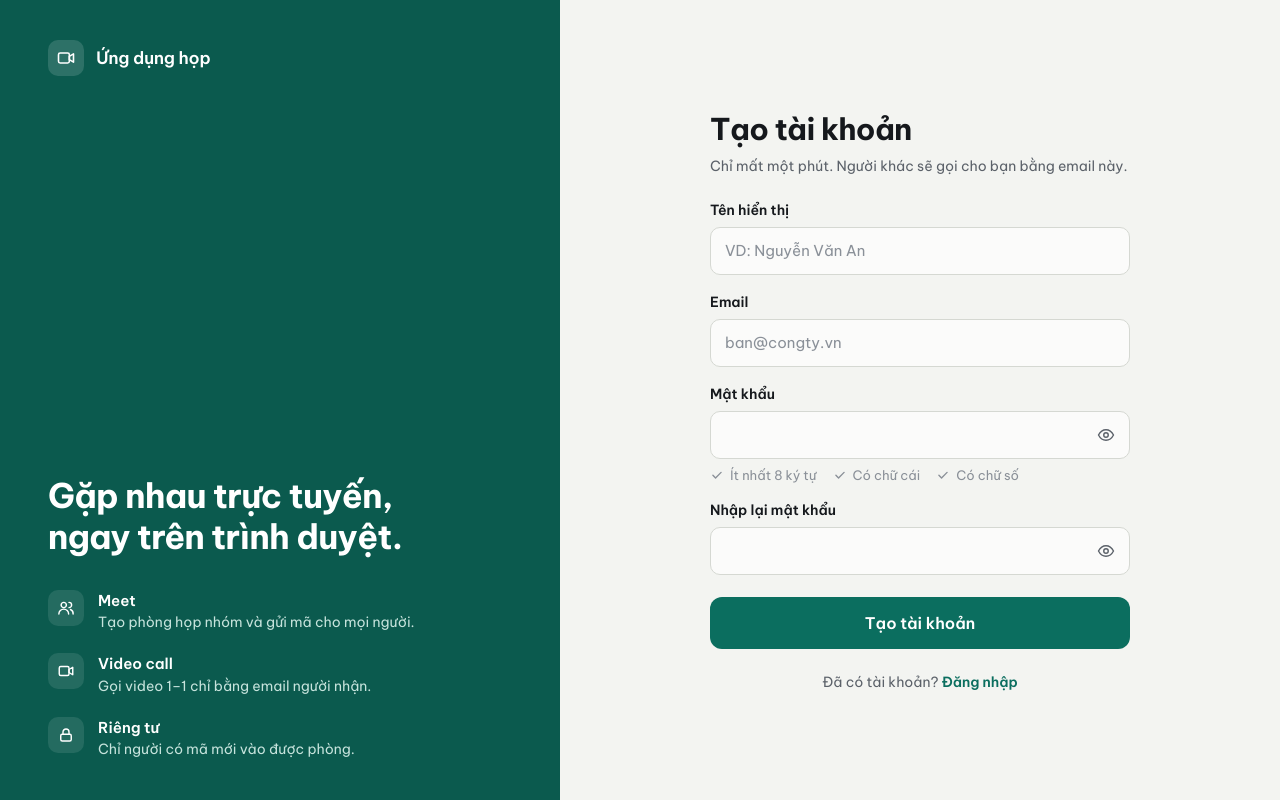
Test: đăng ký › mật khẩu nhập lại không khớp thì không gọi API
Type "Nguyễn An" into the field labelled "Tên hiển thị". click: (920, 250)
box: [710, 226, 1130, 274]
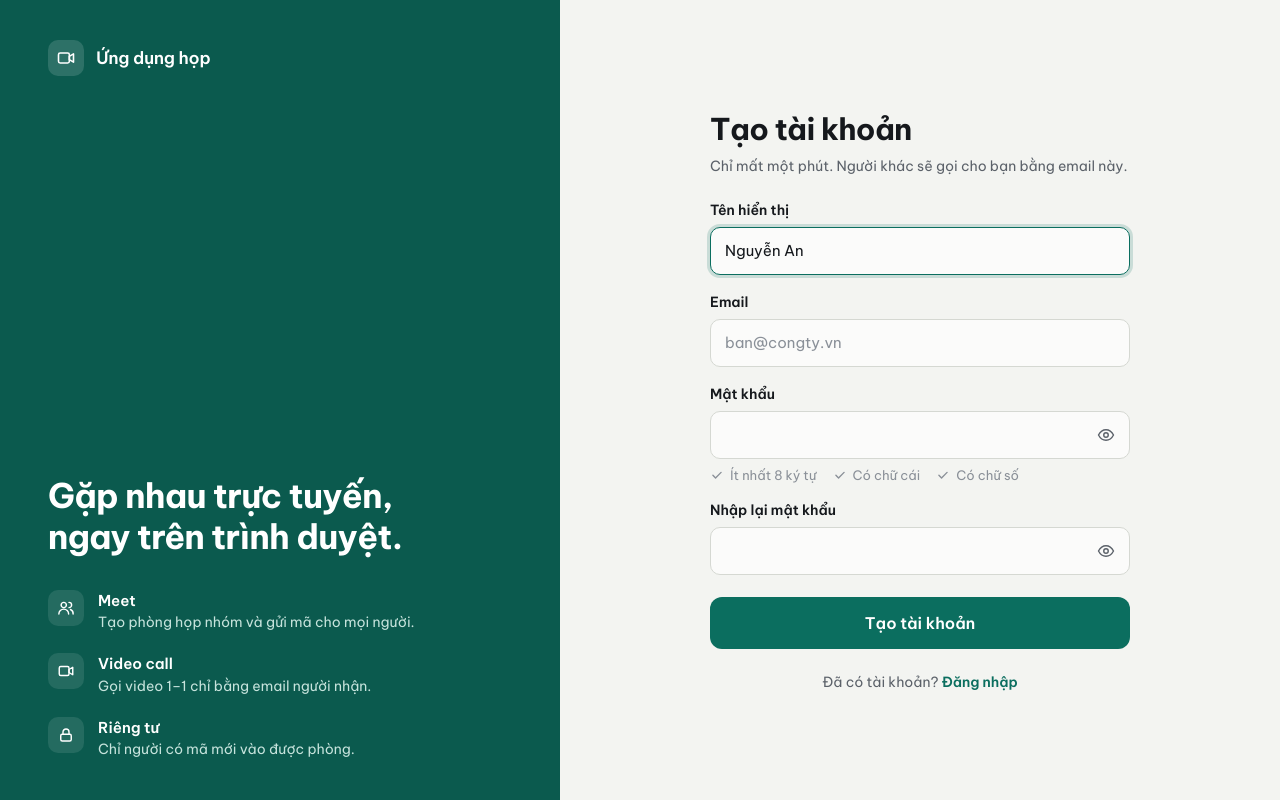
Type "an@congty.vn" into the field labelled "Email". click: (920, 342)
box: [710, 318, 1130, 366]
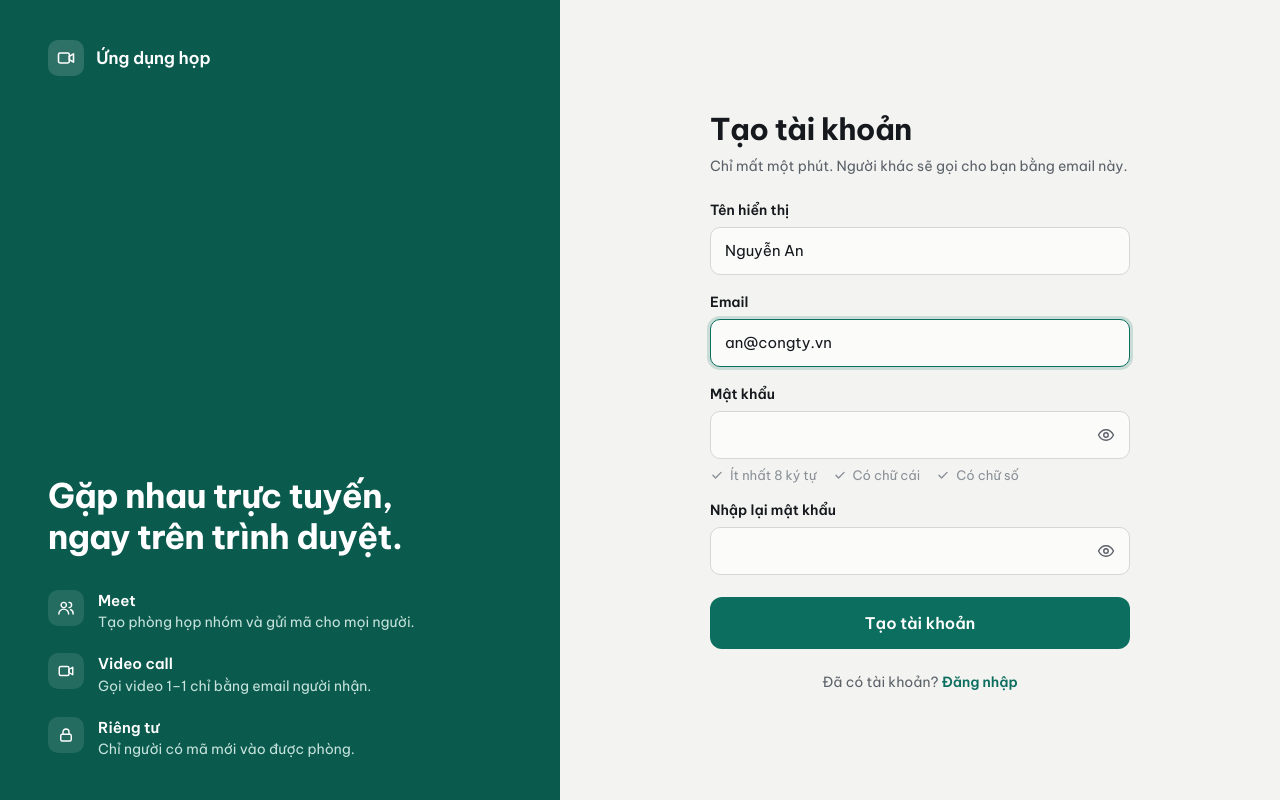
Type "matkhau123" into the password field labelled "Mật khẩu". click: (920, 434)
box: [710, 410, 1130, 458]
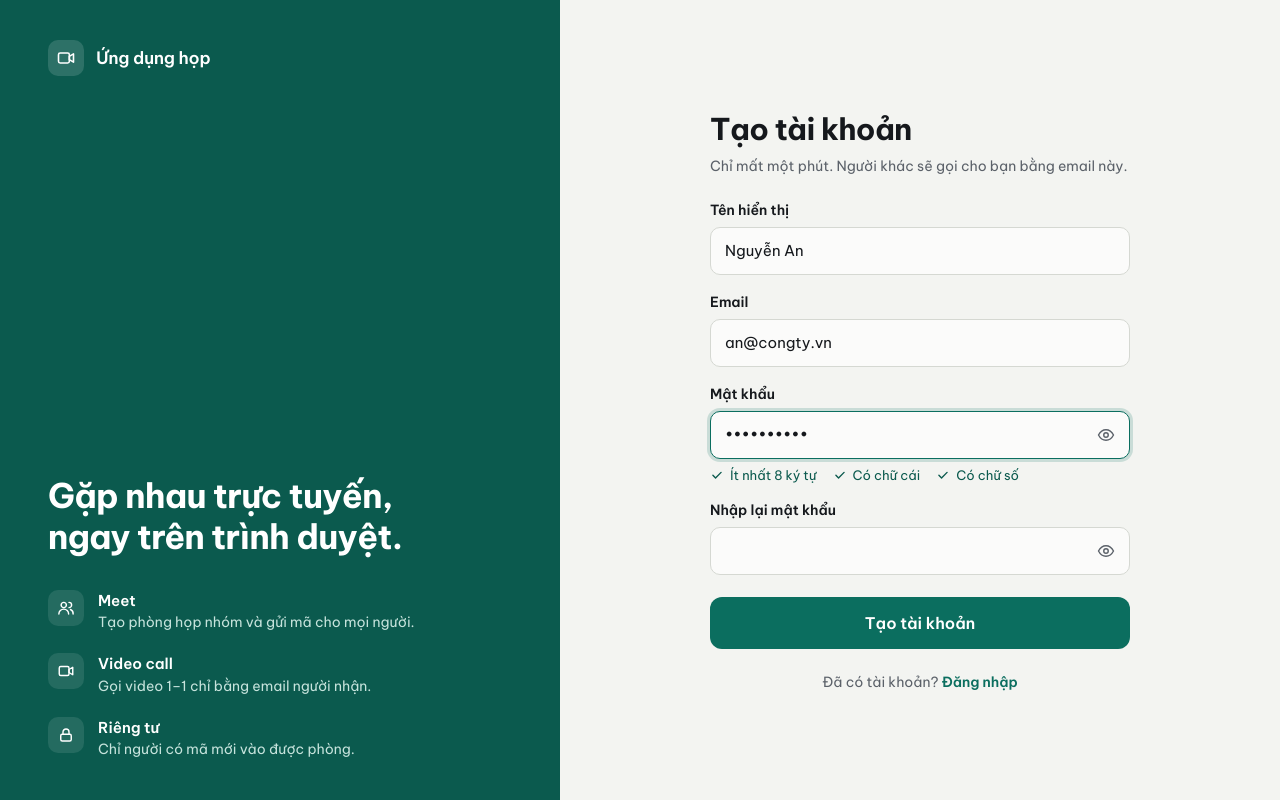
Type "khac12345" into the password field labelled "Nhập lại mật khẩu". click: (920, 550)
box: [710, 526, 1130, 574]
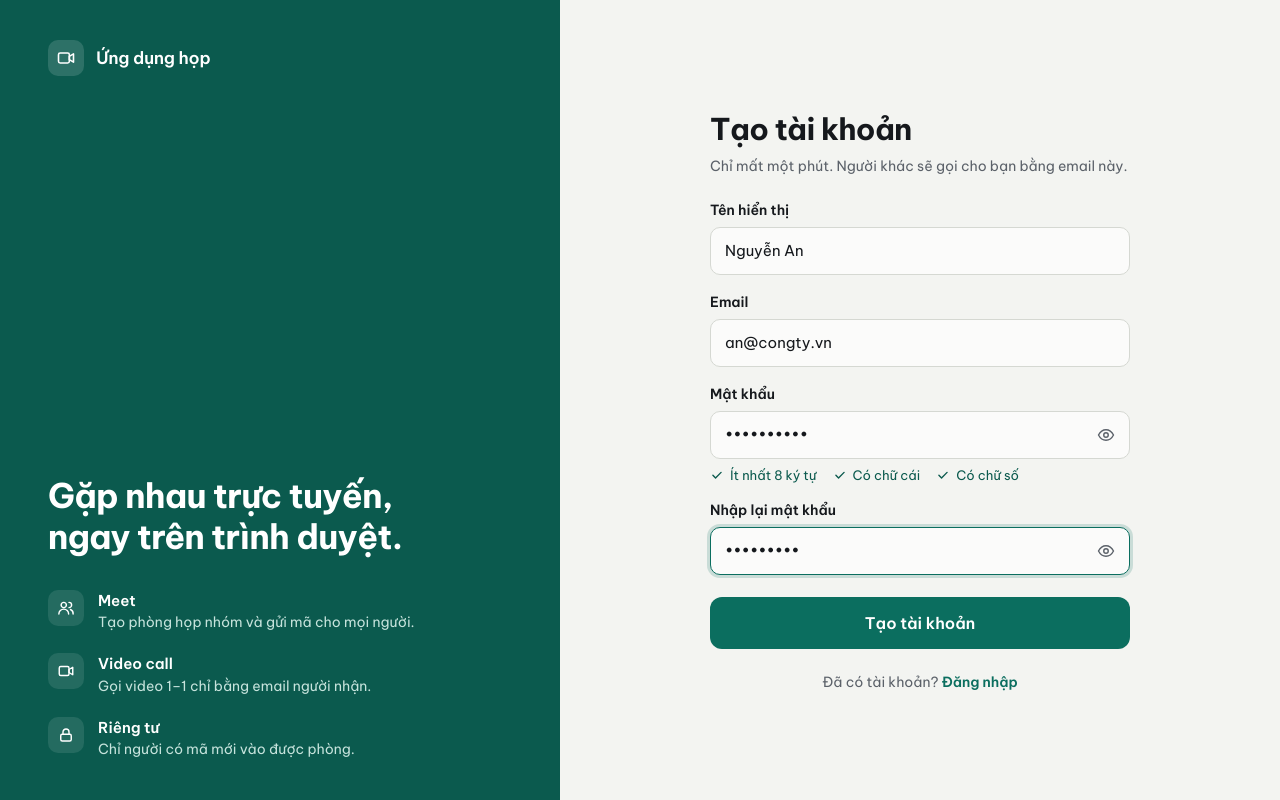
Click the button "Tạo tài khoản". click: click(920, 622)
box: [710, 596, 1130, 648]
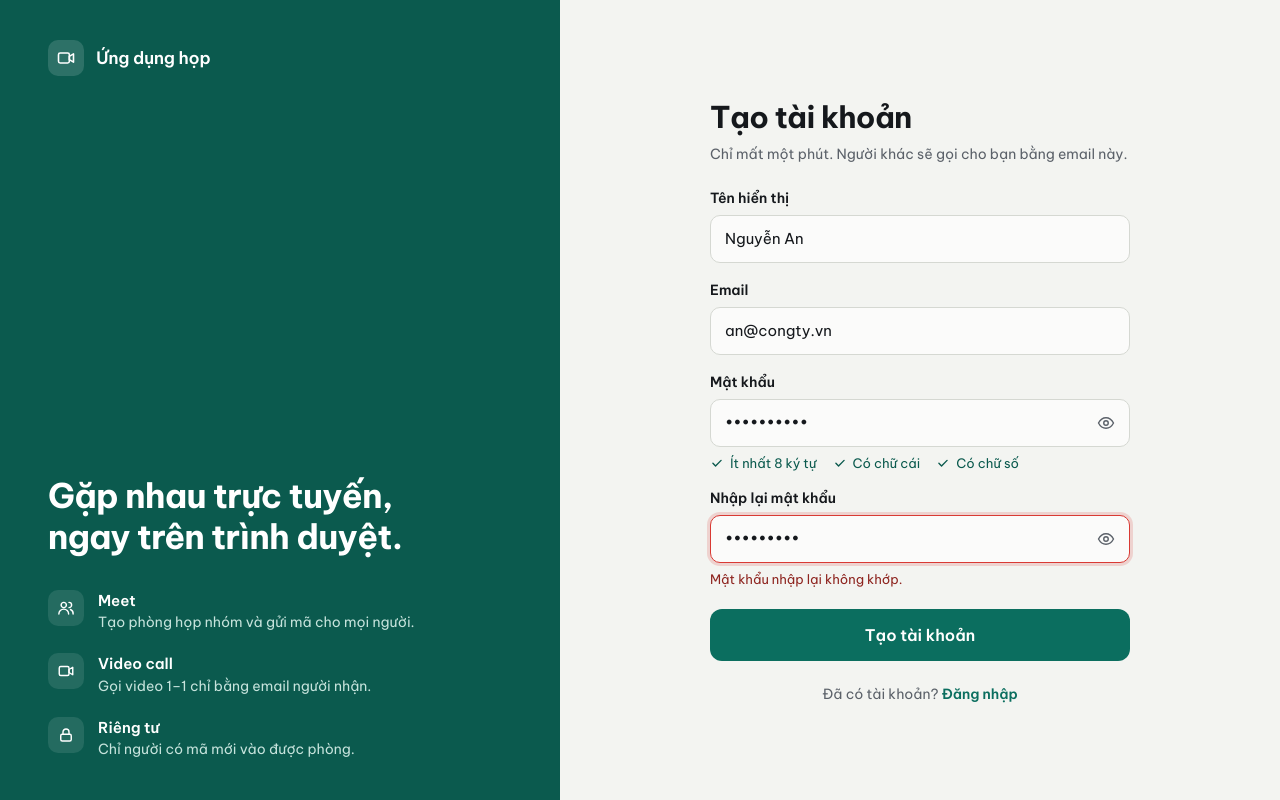
Result: the text "Mật khẩu nhập lại không khớp." is shown at [710, 570, 902, 586]
